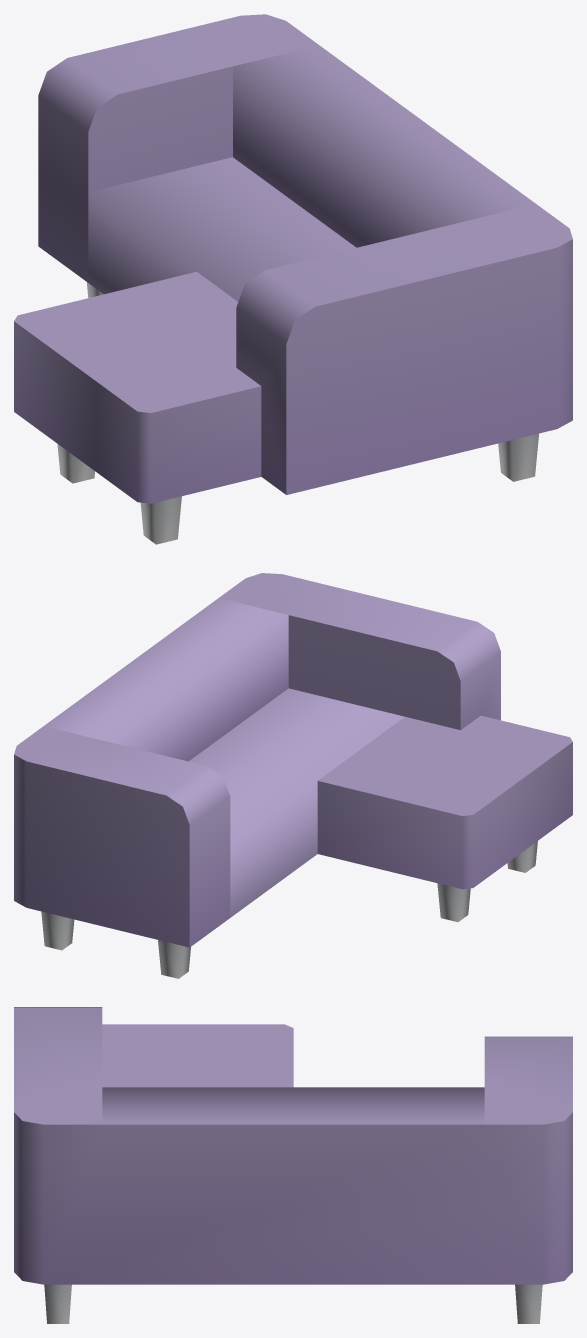
Rendered from manhattan-sofa-lounge.glb.
3 renders of one model, top to bottom at view 1: azimuth 30°, elevation 25°; view 2: azimuth 150°, elevation 25°; view 3: azimuth 270°, elevation 25°, orthographic. The views are drawn at different scales.
Parts seen in each view (by area): view 1: manhattan-sofa-lounge; view 2: manhattan-sofa-lounge; view 3: manhattan-sofa-lounge.
Boxes of the visible parts, x1=… form: manhattan-sofa-lounge: x1=14, y1=14, x2=572, y2=544; manhattan-sofa-lounge: x1=14, y1=573, x2=572, y2=978; manhattan-sofa-lounge: x1=14, y1=1007, x2=572, y2=1323.
Size of the model in its own units: 1.22 by 0.672 by 1.6.
